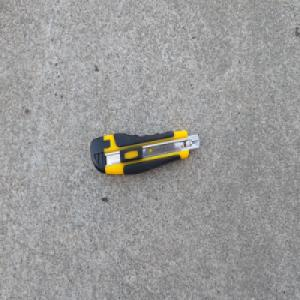Cutter: (89, 127, 200, 178)
